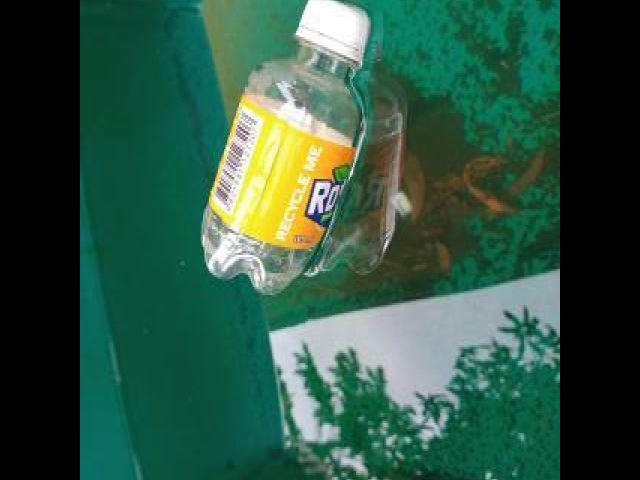Bottle: (194, 0, 380, 299)
